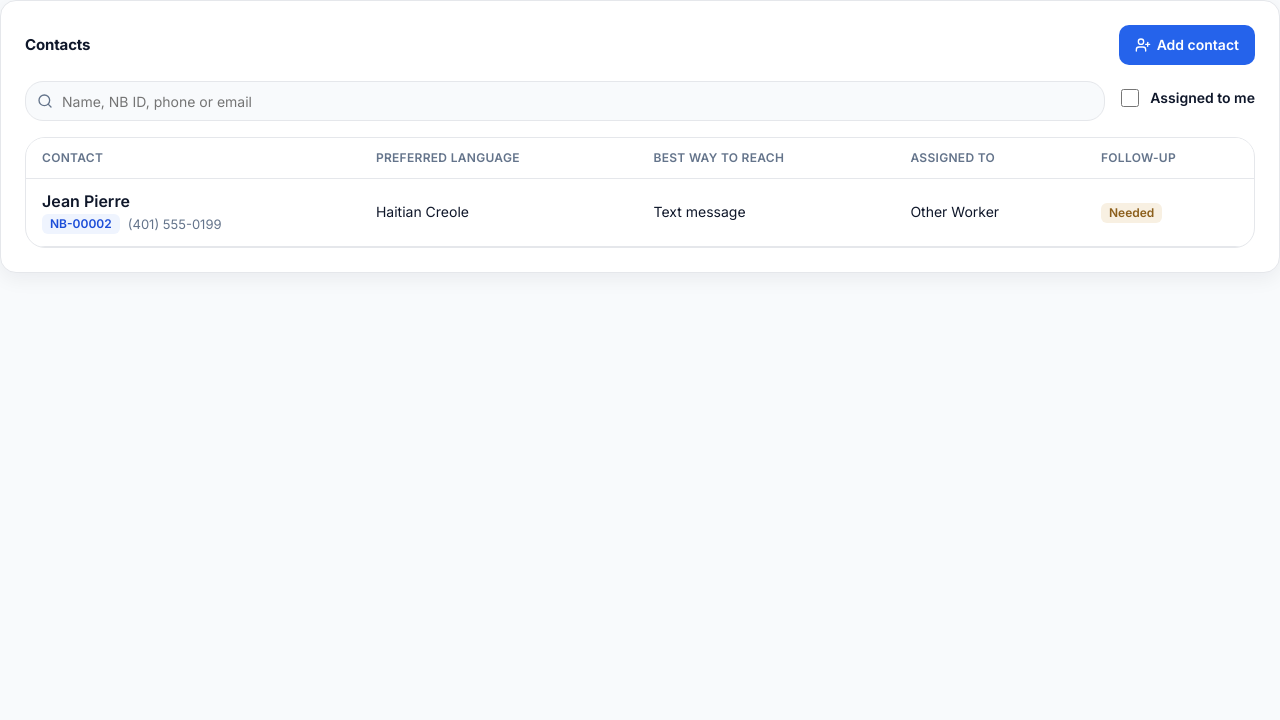
Test: SnapContacts › shows when a found client is already a SNAP contact
Expected: the button "Jean Pierre" is shown, [42,191,130,211]
Click the button "Add contact" at x=1187, y=45, box [1119,25,1255,65]
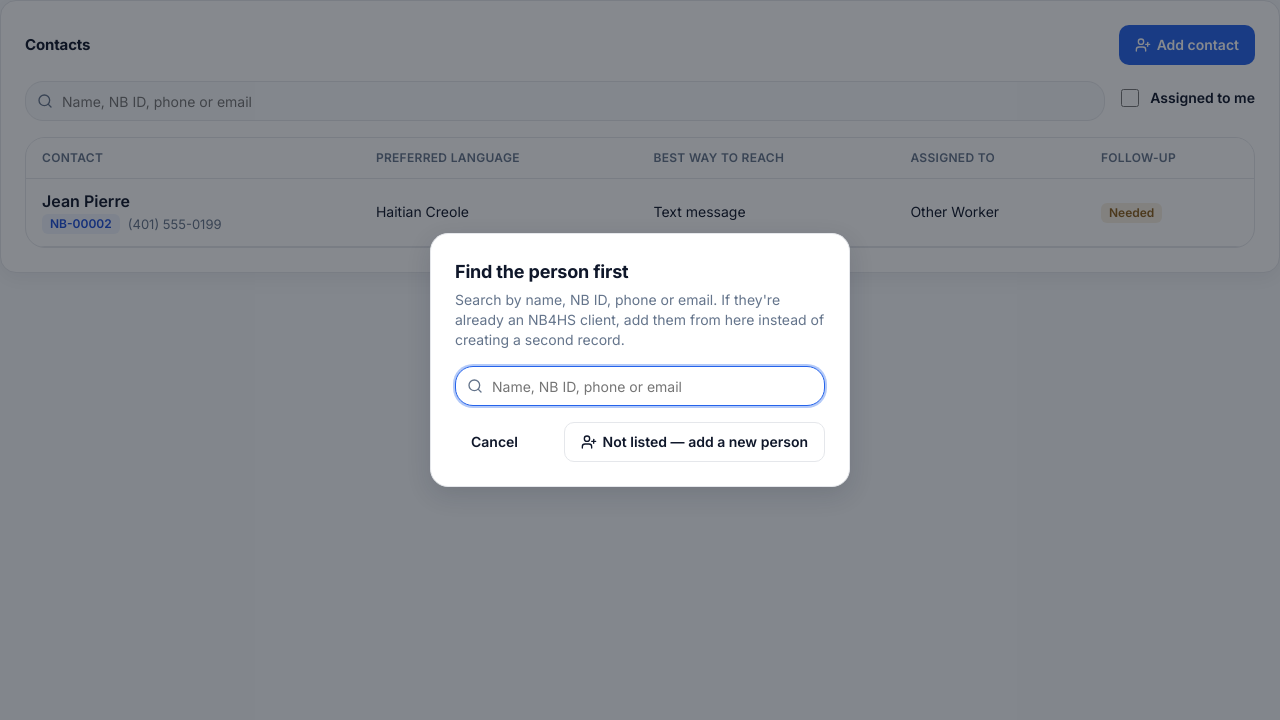
Type "pierre" into the field labelled "Name, NB ID, phone or email" at x=640, y=386, box [455,366,825,406]
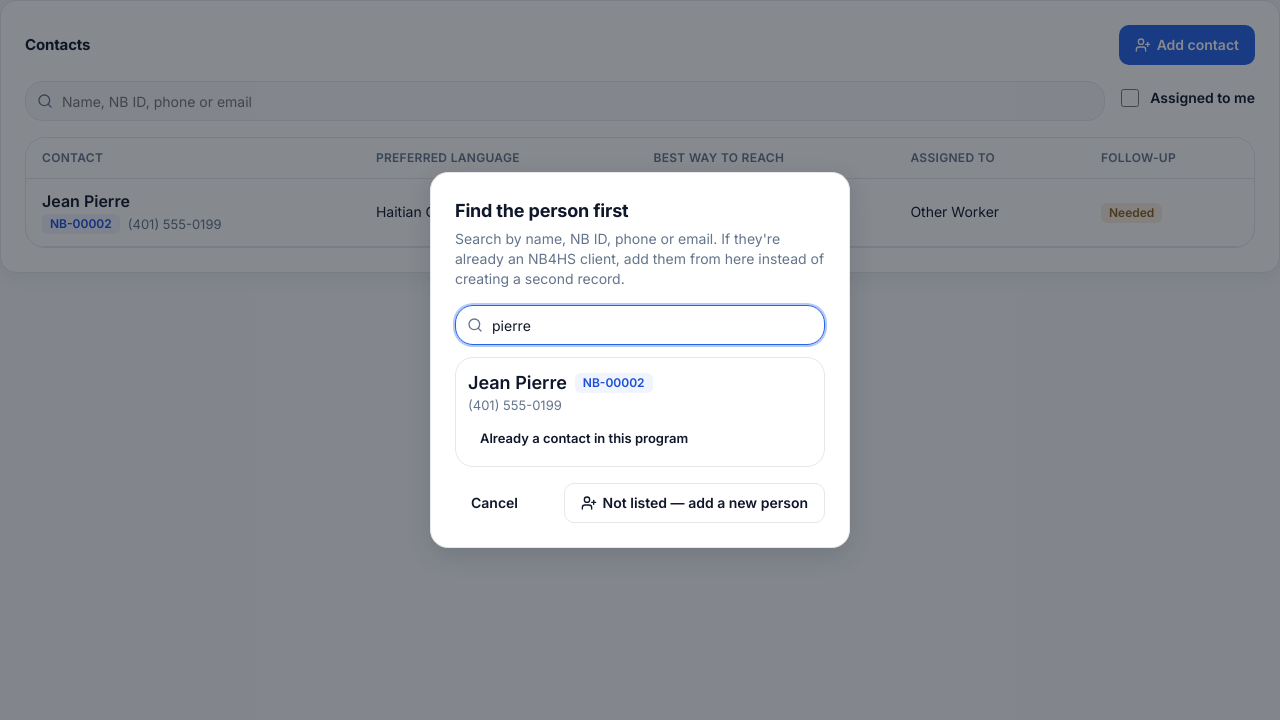
Result: the button "Already a contact in this program" is shown at [468,422,700,454]
